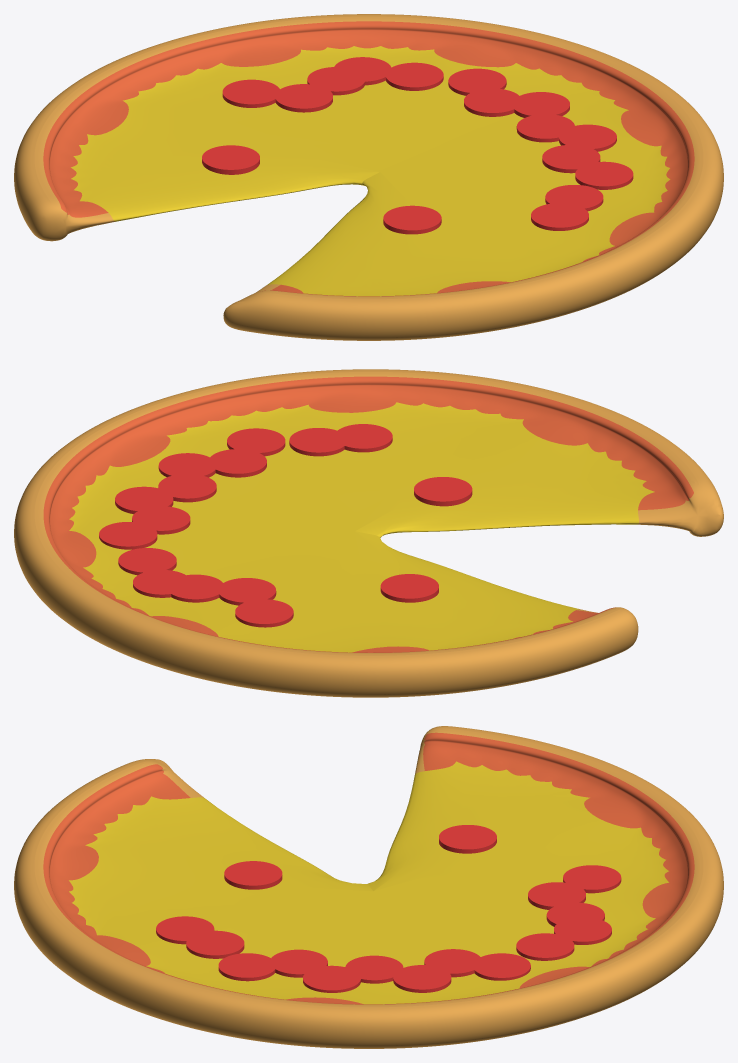
Rendered from PizzaSmile.fbx.
3 views of the same model, one above another, from view 1: azimuth 30°, elevation 25°; view 2: azimuth 150°, elevation 25°; view 3: azimuth 270°, elevation 25° (orthographic).
Visible parts, largest first — view 1: PizzaSmily; view 2: PizzaSmily; view 3: PizzaSmily.
Boxes of the visible parts, left/top/right/bottom form: PizzaSmily: left=14, top=14, right=723, bottom=340; PizzaSmily: left=14, top=369, right=723, bottom=697; PizzaSmily: left=14, top=726, right=723, bottom=1048.
Bounding box in the file's own units: 89.34 × 5.48 × 90.44.
